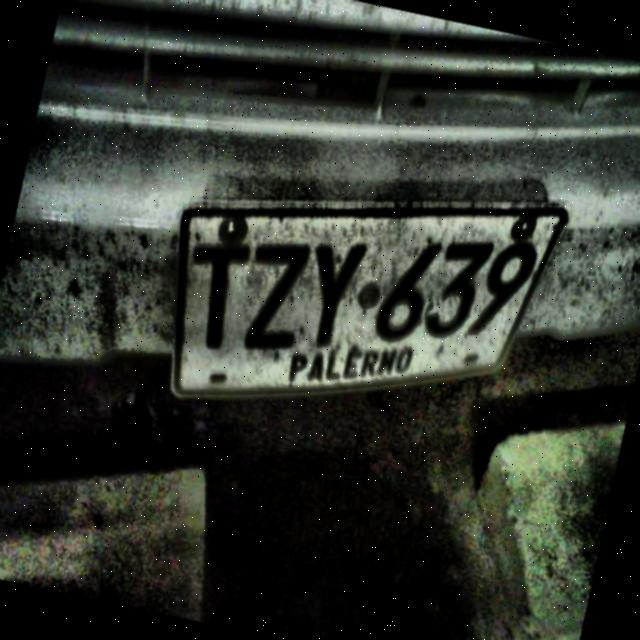plate: (176, 211, 565, 393)
